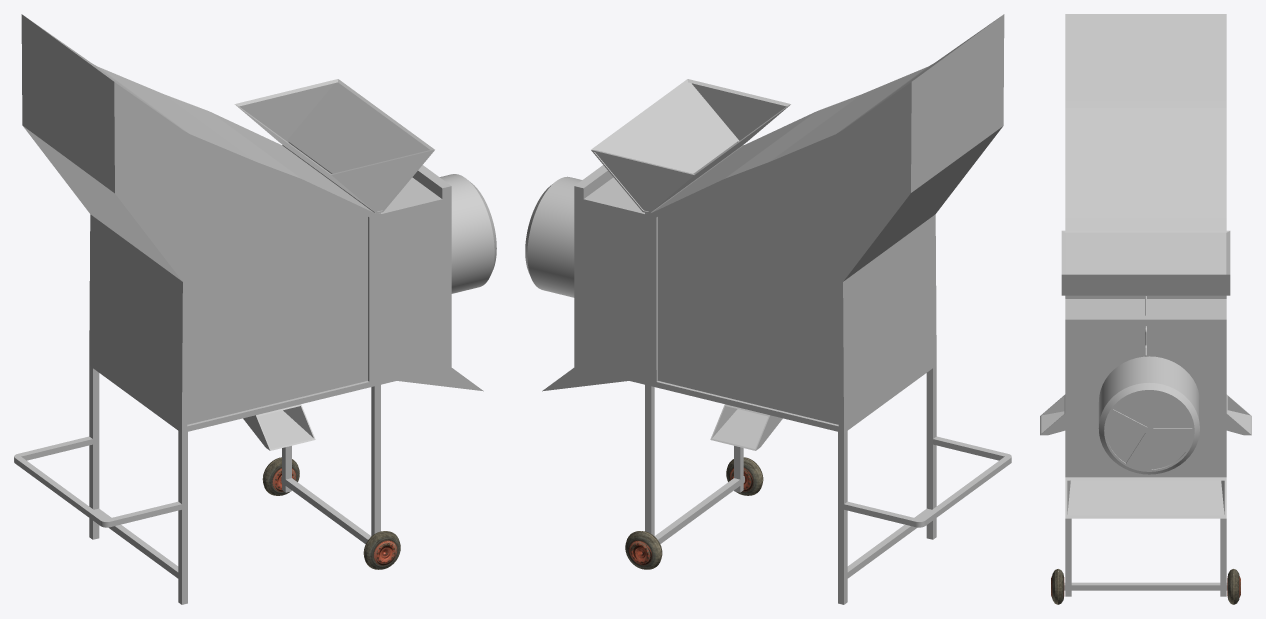
File: Winnowing_machine.fbx
3 views of the same model, side by side, from view 1: azimuth 30°, elevation 25°; view 2: azimuth 150°, elevation 25°; view 3: azimuth 270°, elevation 25° (orthographic). The views are drawn at different scales.
Visible parts, largest first — view 1: Machine, Wheels; view 2: Machine, Wheels; view 3: Machine, Wheels.
Boxes of the visible parts, x1,y1,x2,y2 form: Machine: [14, 14, 496, 604]; Wheels: [262, 457, 400, 569]; Machine: [525, 14, 1011, 604]; Wheels: [625, 457, 763, 569]; Machine: [1040, 14, 1251, 596]; Wheels: [1051, 569, 1240, 604].
Size of the model in its own units: 282 by 356 by 143.
